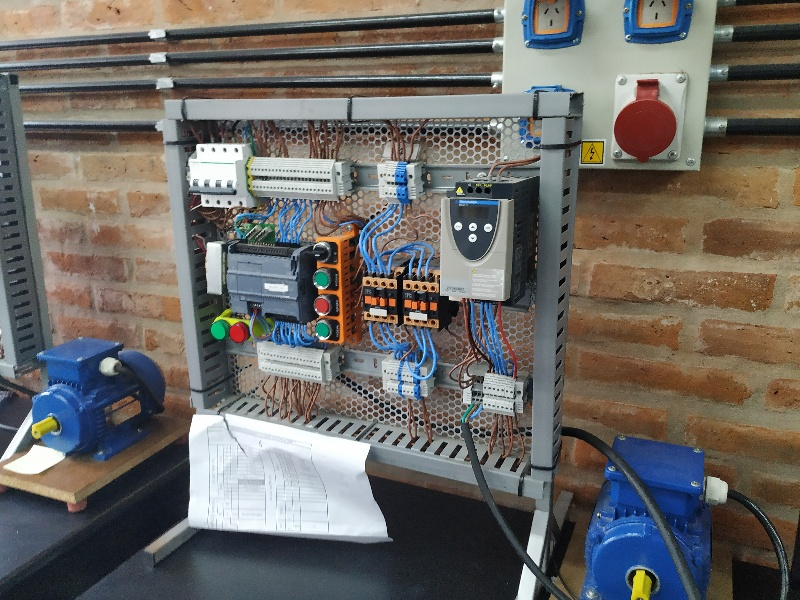Tablero 4: (175, 114, 554, 465)
